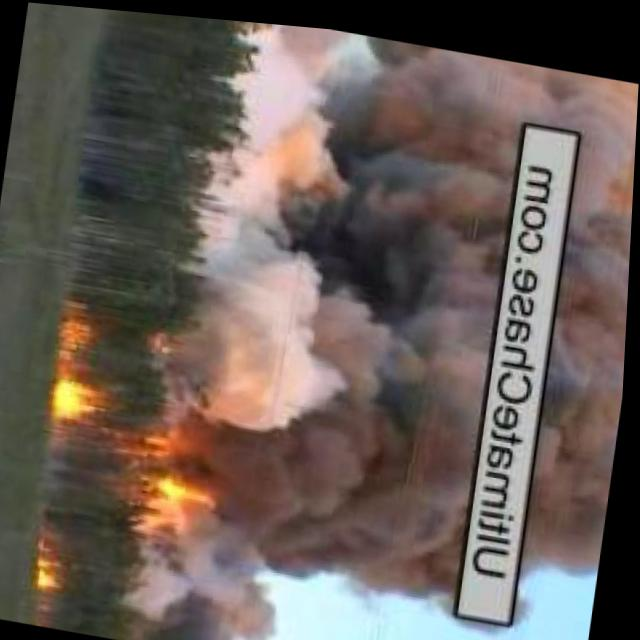Fire: (157, 471, 239, 531), (51, 370, 109, 425), (44, 553, 77, 593)
